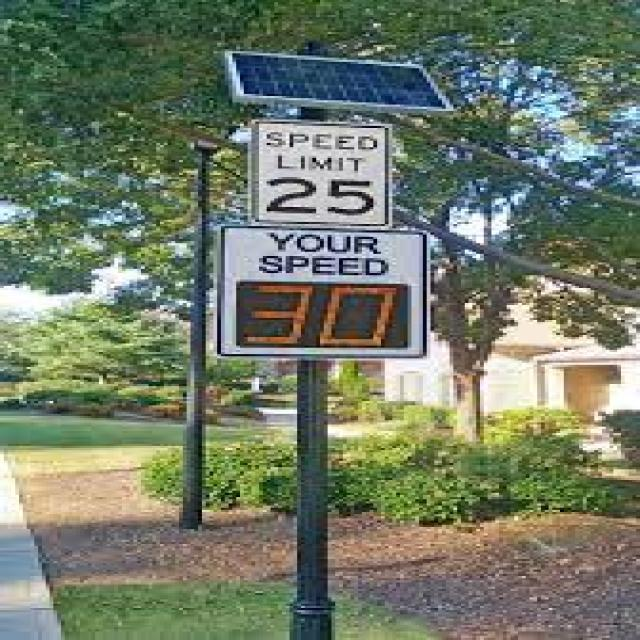Speed Limit Signs: (247, 117, 400, 231)
